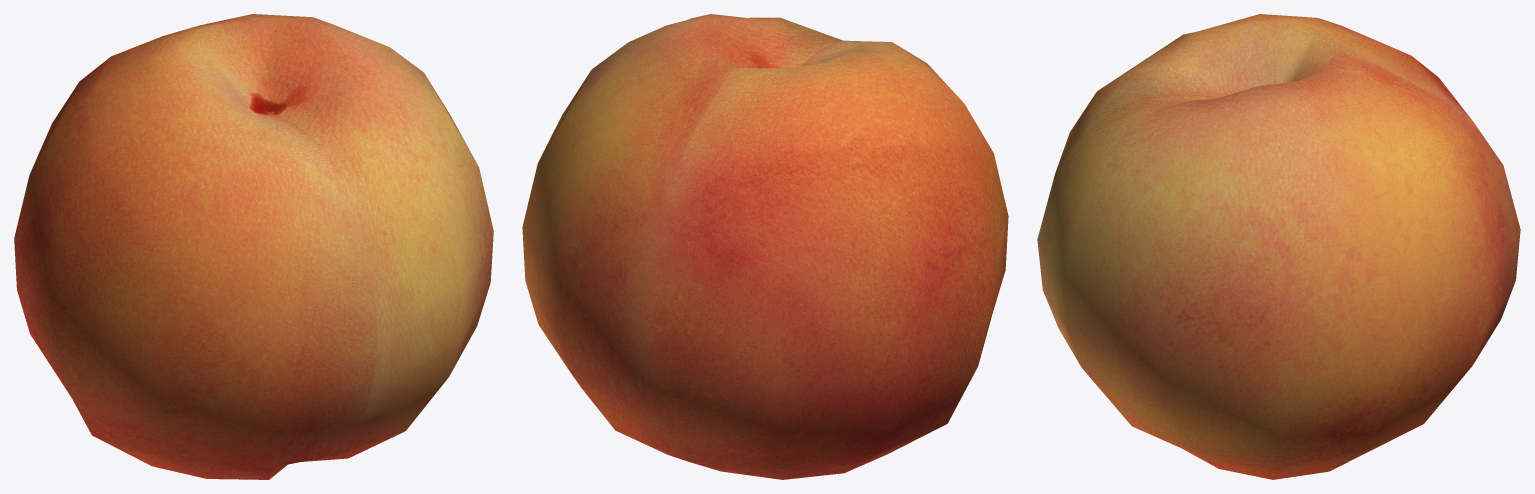
The model's file is PeacH.fbx.
3 views of the same model, side by side, from view 1: azimuth 30°, elevation 25°; view 2: azimuth 150°, elevation 25°; view 3: azimuth 270°, elevation 25° (orthographic). The views are drawn at different scales.
Visible parts, largest first — view 1: Peach; view 2: Peach; view 3: Peach.
Part boxes in pixels (x1=…): Peach: x1=14, y1=14, x2=493, y2=479; Peach: x1=522, y1=14, x2=1008, y2=479; Peach: x1=1037, y1=14, x2=1520, y2=479.
Bounding box in the file's own units: 0.1253 × 0.1185 × 0.1274.
